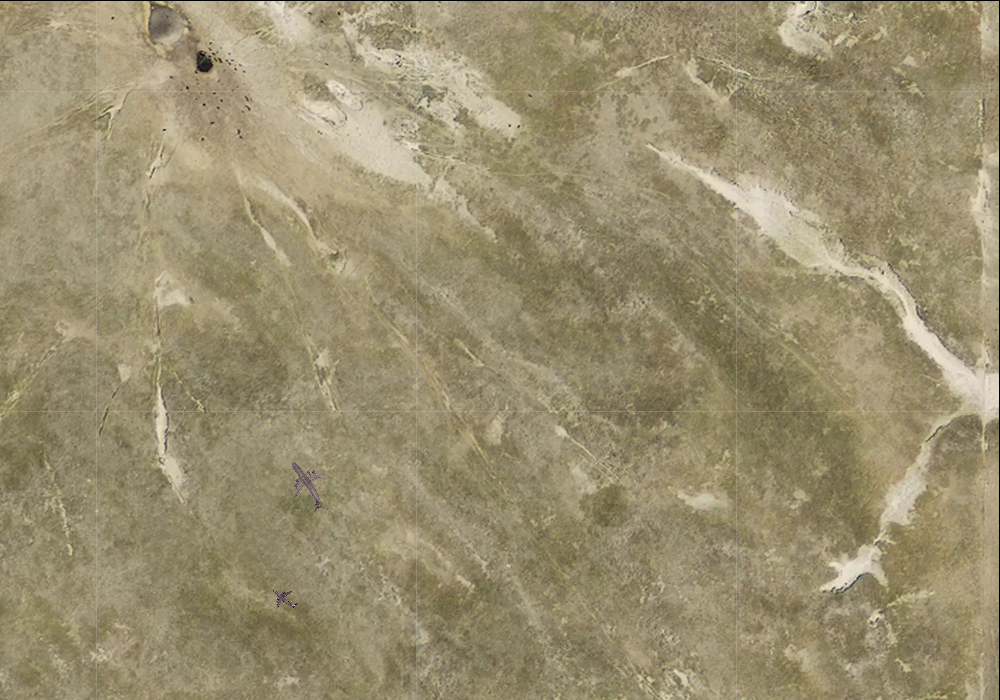plane: (269, 448, 342, 523), (264, 579, 303, 617)
